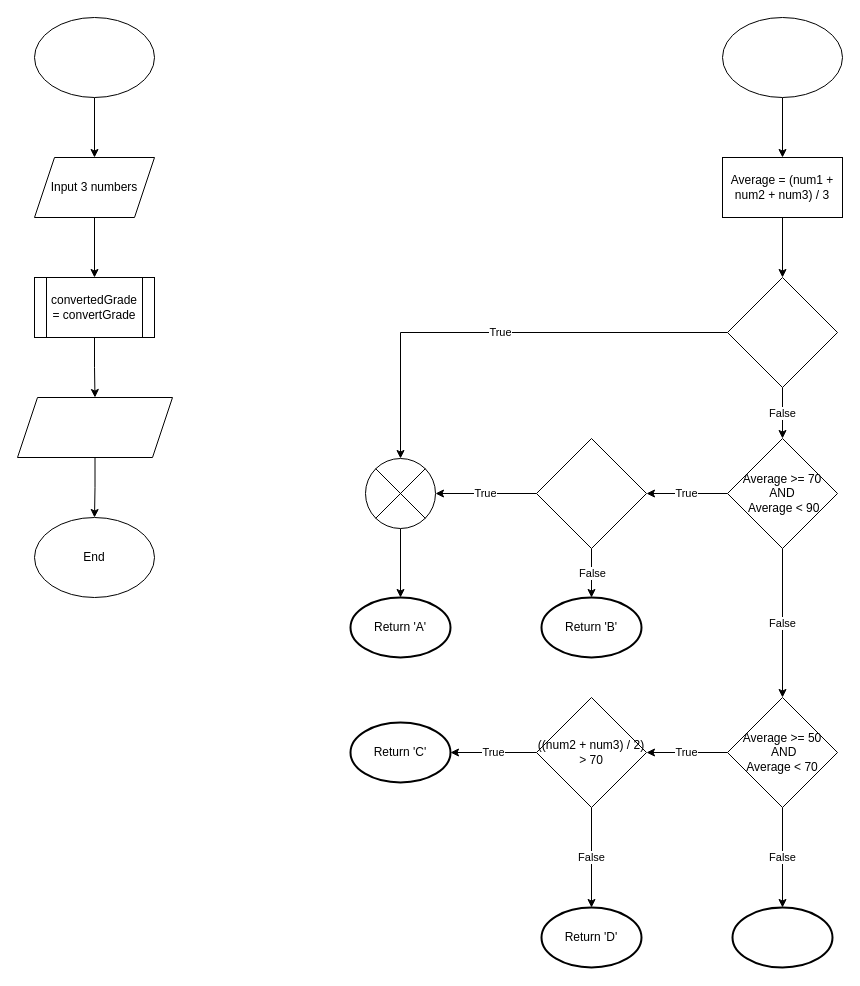
This 860x986 diagram has some shape labels left out. Each missing label, with the centre of its shape:
Average >= 90: point 782,332
convertGrade: point 782,57
num3 > 90: point 591,493
Print "Your grade is" + convertedGrade: point 94,427
Return 'F': point 782,937
Start: point 94,57
